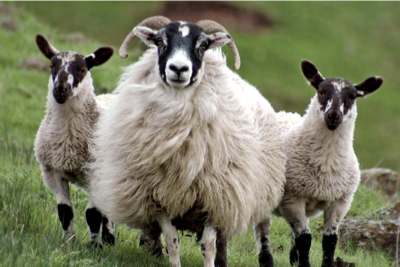koyun: (115, 12, 273, 266), (300, 59, 383, 265), (34, 32, 111, 249)
